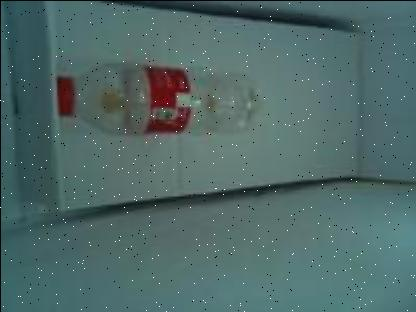Plastic Bottle: (54, 63, 260, 133)
